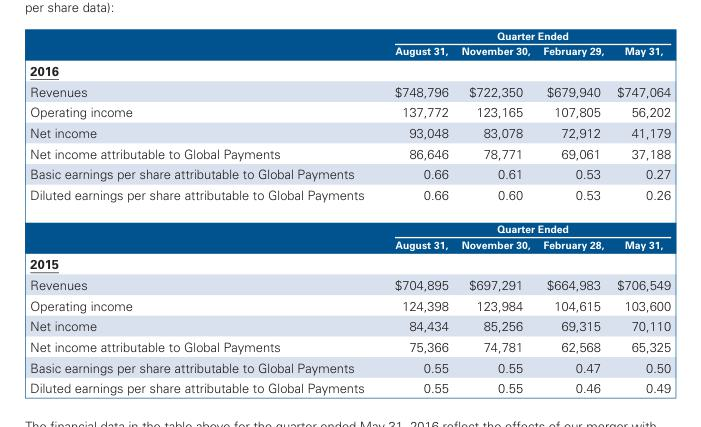table: (29, 29, 670, 395)
table column: (29, 29, 378, 395), (454, 29, 536, 395), (378, 29, 454, 395), (536, 29, 609, 395), (609, 29, 670, 395)
table column header: (29, 29, 670, 60)
table projected row header: (29, 253, 670, 274), (29, 60, 670, 80)
table row: (29, 184, 670, 212), (29, 212, 670, 236), (29, 80, 670, 101), (29, 101, 670, 122), (29, 142, 670, 163), (29, 163, 670, 184), (29, 253, 670, 274), (29, 294, 670, 315), (29, 315, 670, 336), (29, 356, 670, 377), (29, 60, 670, 80), (29, 122, 670, 142), (29, 274, 670, 294), (29, 336, 670, 356), (29, 377, 670, 395), (29, 43, 670, 60), (29, 236, 670, 253), (29, 29, 670, 43)
table spanning cell: (378, 212, 670, 236), (378, 29, 670, 43)
